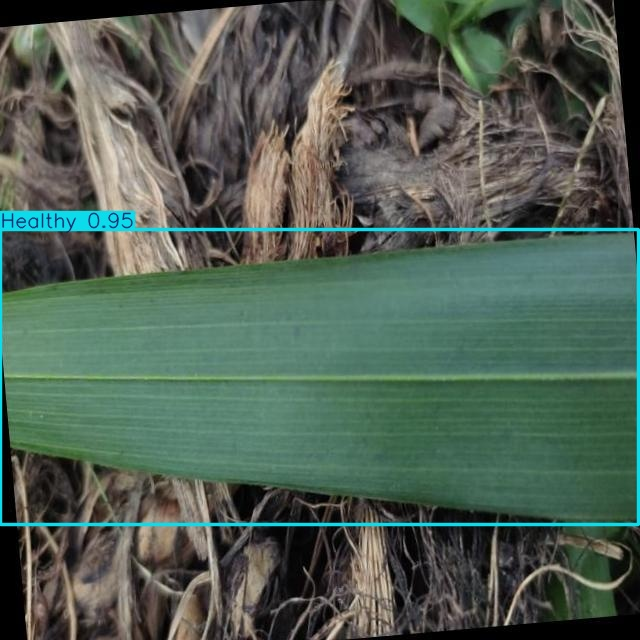Healthy: (1, 230, 639, 524)
